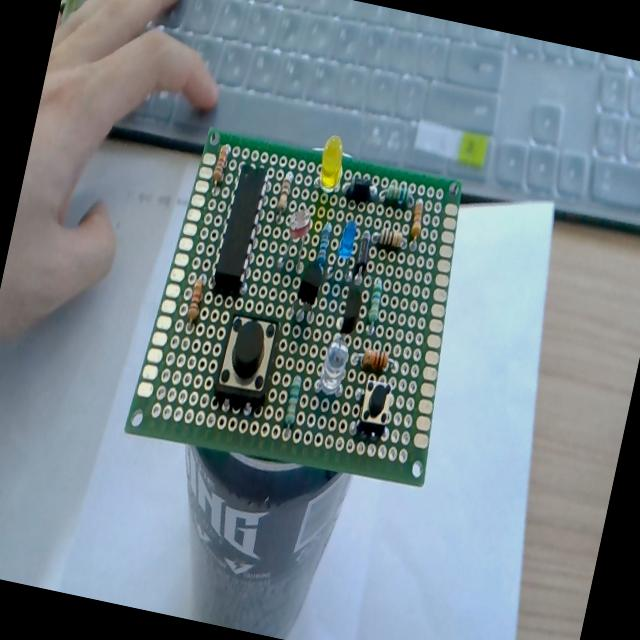IC: (212, 162, 268, 296)
cds: (278, 202, 314, 274)
diode: (350, 229, 374, 285), (340, 172, 378, 206)
led: (314, 332, 352, 398), (314, 133, 348, 192), (335, 218, 358, 263)
resistor: (282, 374, 302, 426), (313, 221, 333, 269), (186, 276, 206, 323), (383, 180, 414, 210), (360, 344, 390, 375), (364, 278, 384, 324), (376, 224, 406, 252), (407, 199, 426, 242), (276, 172, 294, 217), (211, 143, 230, 185)
switch: (212, 307, 282, 408), (356, 374, 396, 436)
transistor: (296, 260, 326, 308), (338, 283, 364, 335)
